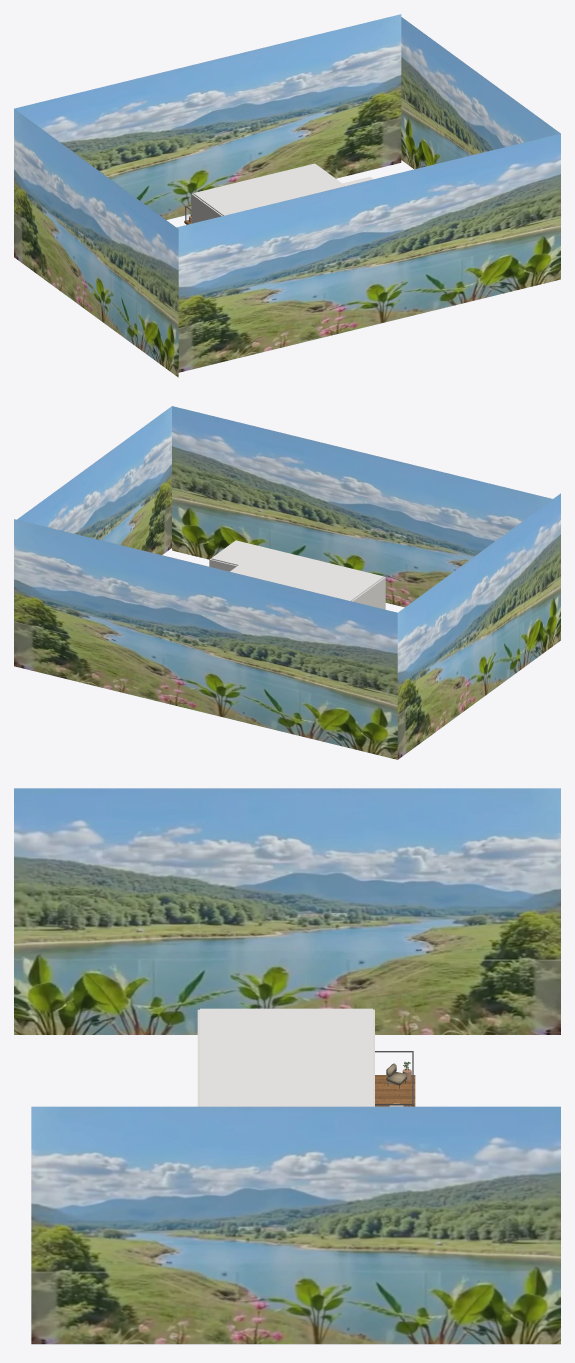
Rendered from dream_apartment.glb.
3 views of the same model, one above another, from view 1: azimuth 30°, elevation 25°; view 2: azimuth 150°, elevation 25°; view 3: azimuth 270°, elevation 25° (orthographic). The views are drawn at different scales.
Parts seen in each view (by area): view 1: Vista_South_Hills, Vista_North_River, Vista_West_Wing, Vista_East_Greenery, Ceil__living_top, Ceil__kitchen_top, Wall_West_Living_solid_end; view 2: Vista_North_River, Vista_South_Hills, Vista_West_Wing, Vista_East_Greenery, Ceil__bedroom_top, Ceil__office_top, Ceil__bathroom_top, Ceil__living_top, Wall_West_Bed_solid_end, Ceil__kitchen_top; view 3: Vista_West_Wing, Vista_East_Greenery, Ceil__living_top, Ceil__bedroom_top, Ceil__kitchen_top, Ceil__bathroom_top, Ceil__office_top, Balcony_Slab.
Boxes of the visible parts, x1,y1,x2,y2 form: Vista_South_Hills: (176, 133, 560, 372); Vista_North_River: (14, 14, 401, 219); Vista_West_Wing: (14, 109, 178, 377); Vista_East_Greenery: (401, 17, 560, 169); Ceil__living_top: (193, 175, 295, 213); Ceil__kitchen_top: (269, 163, 341, 194); Wall_West_Living_solid_end: (192, 195, 220, 223); Vista_North_River: (14, 519, 397, 759); Vista_South_Hills: (172, 406, 552, 607); Vista_West_Wing: (397, 493, 560, 759); Vista_East_Greenery: (17, 406, 171, 554); Ceil__bedroom_top: (298, 561, 383, 595); Ceil__office_top: (211, 540, 278, 568); Ceil__bathroom_top: (255, 551, 322, 579); Ceil__living_top: (276, 576, 359, 601); Wall_West_Bed_solid_end: (359, 577, 385, 609); Ceil__kitchen_top: (230, 565, 284, 582); Vista_West_Wing: (14, 788, 560, 1034); Vista_East_Greenery: (31, 1106, 560, 1344); Ceil__living_top: (282, 1008, 372, 1069); Ceil__bedroom_top: (200, 1008, 282, 1058); Ceil__kitchen_top: (282, 1069, 372, 1106); Ceil__bathroom_top: (200, 1058, 282, 1094); Ceil__office_top: (200, 1094, 282, 1106); Balcony_Slab: (375, 1075, 415, 1106).
Size of the model in its own units: 30 by 11 by 22.1.
Materials: 34 (15 with a texture image).
